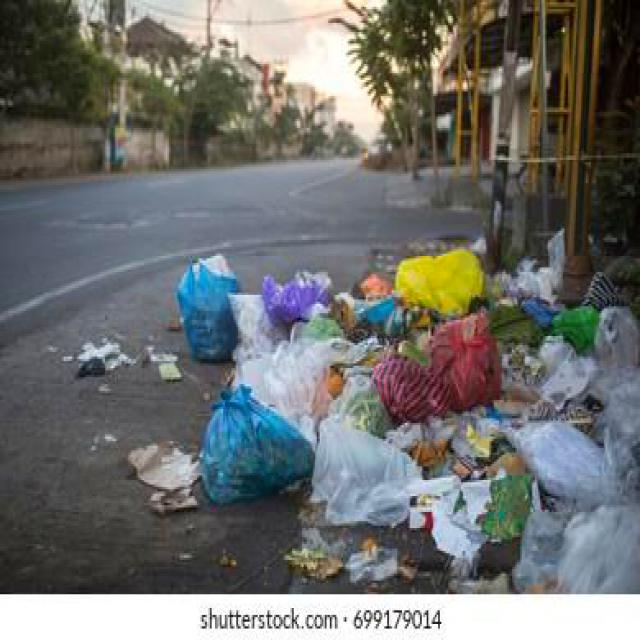garbage: (160, 238, 638, 592)
